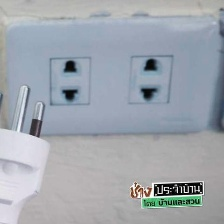three_eye_plug: (2, 11, 224, 139)
